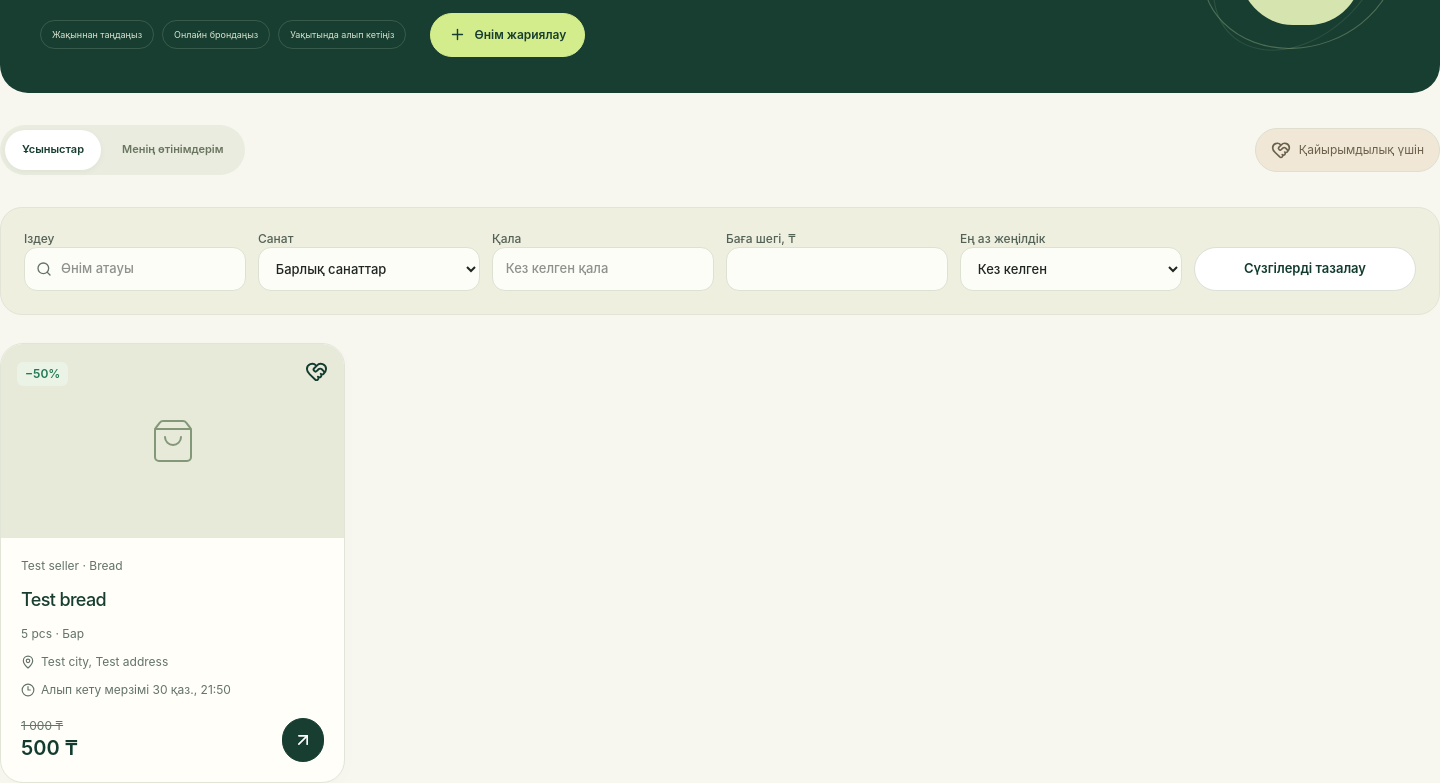
SAVE in kk › retries a reservation with the same key and translates backend errors and confirmation
(page scrolled)
Click the button named "Ұсынысты ашу": (303, 740) top-left (282, 718), bottom-right (324, 762)
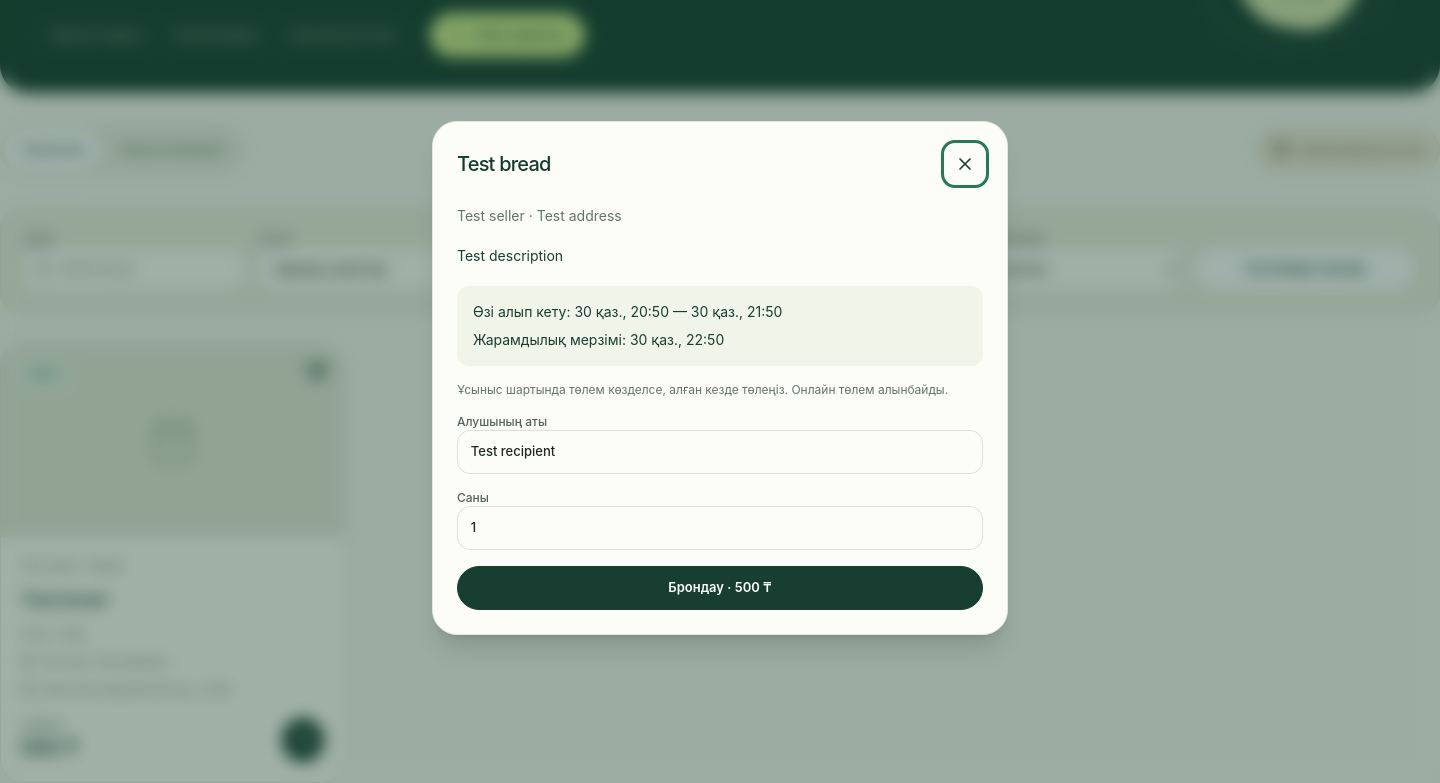
Click the button "Брондау · 500 ₸": (720, 588) top-left (457, 566), bottom-right (983, 610)
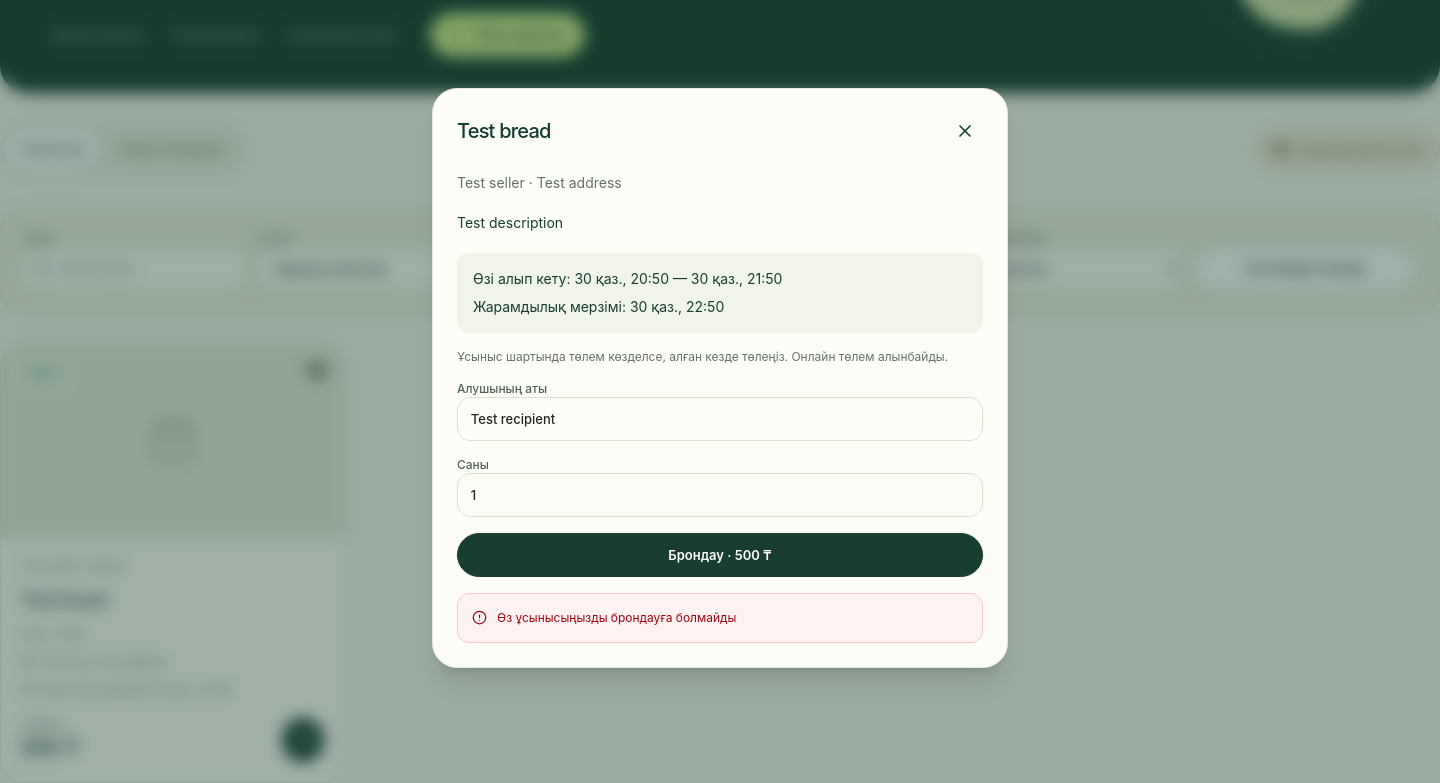
Expected: the text "Өз ұсынысыңызды брондауға болмайды" is shown, top-left (497, 608), bottom-right (736, 628)
Click the button "Брондау · 500 ₸": (720, 555) top-left (457, 533), bottom-right (983, 577)
(page scrolled)
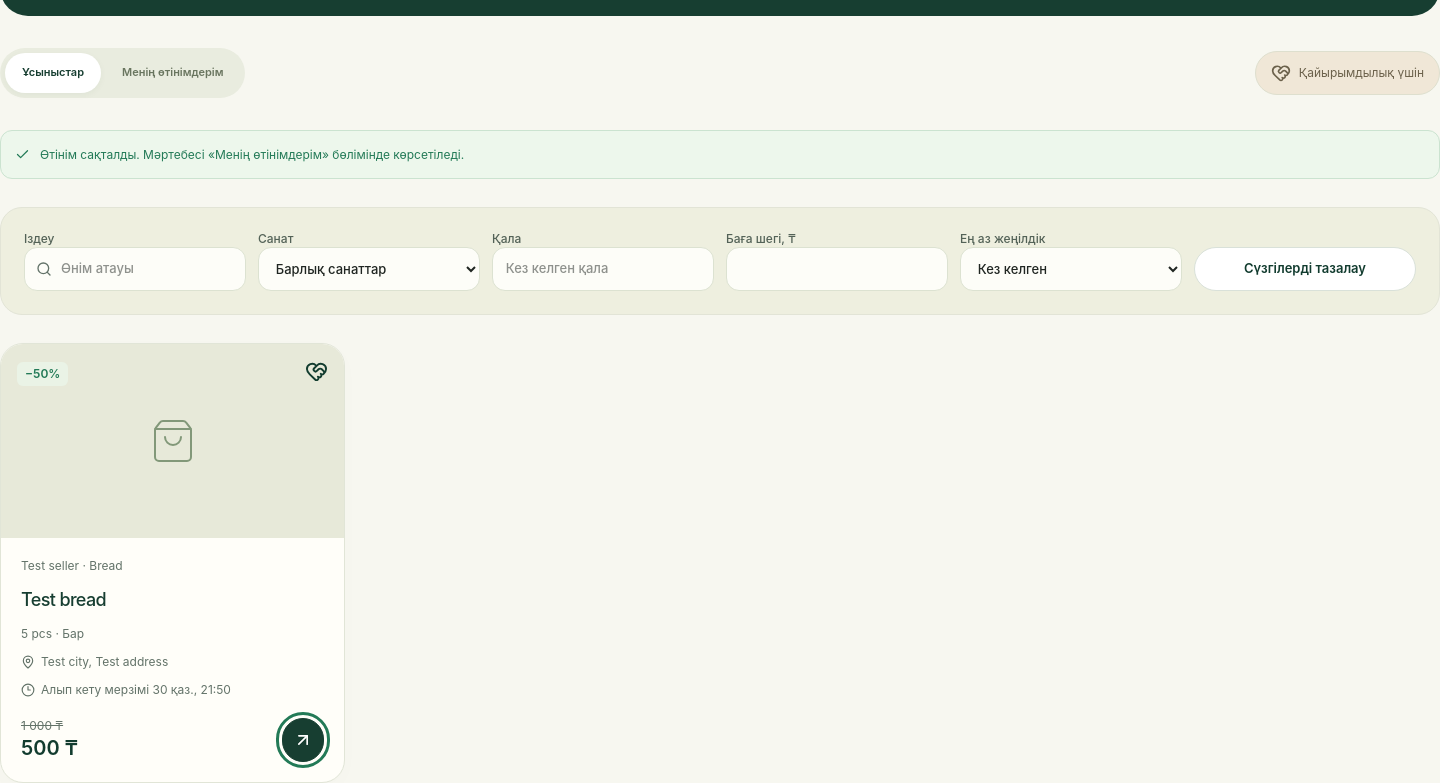
Expected: the text "Өтінім сақталды. Мәртебесі «Менің өтінімдерім» бөлімінде көрсетіледі." is shown, top-left (40, 145), bottom-right (464, 164)
